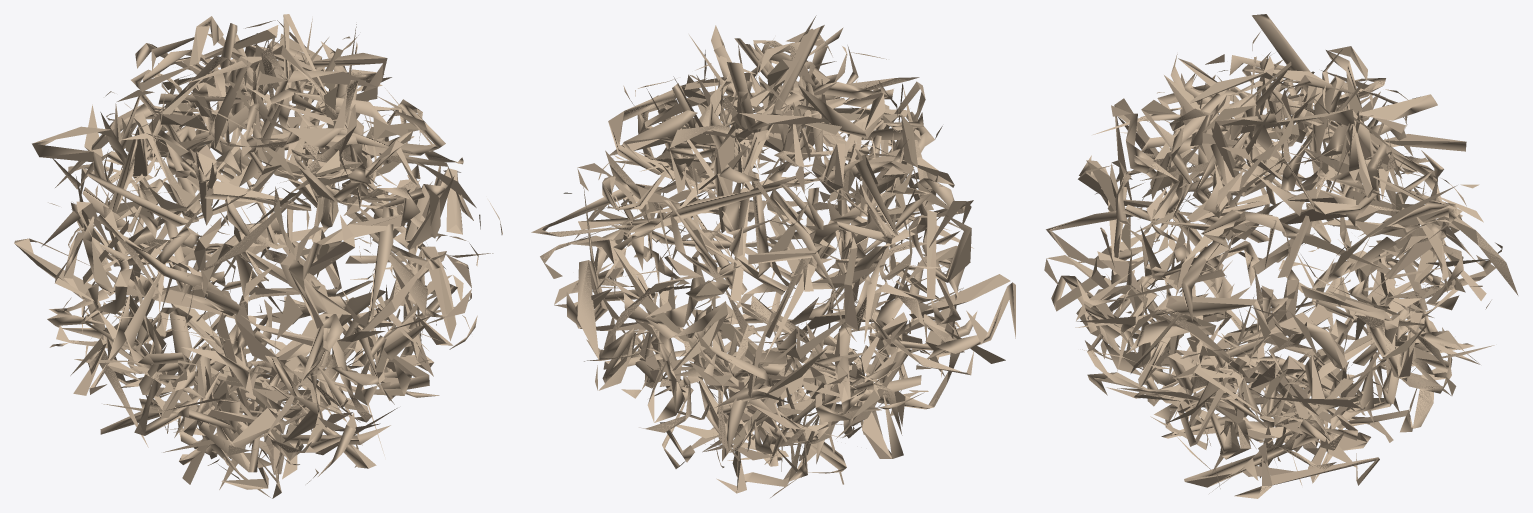
The model's file is tumbleweed.fbx.
The picture shows the model from 3 angles, left to right: view 1: azimuth 30°, elevation 25°; view 2: azimuth 150°, elevation 25°; view 3: azimuth 270°, elevation 25°; orthographic projection. The views are drawn at different scales.
Visible parts, largest first — view 1: tumbleweed; view 2: tumbleweed; view 3: tumbleweed.
Part boxes in pixels (x1,y1,x2,y2): tumbleweed: (14,14,502,498); tumbleweed: (531,15,1015,497); tumbleweed: (1044,14,1518,498).
Bounding box in the file's own units: 56.6 × 61.25 × 57.23.
